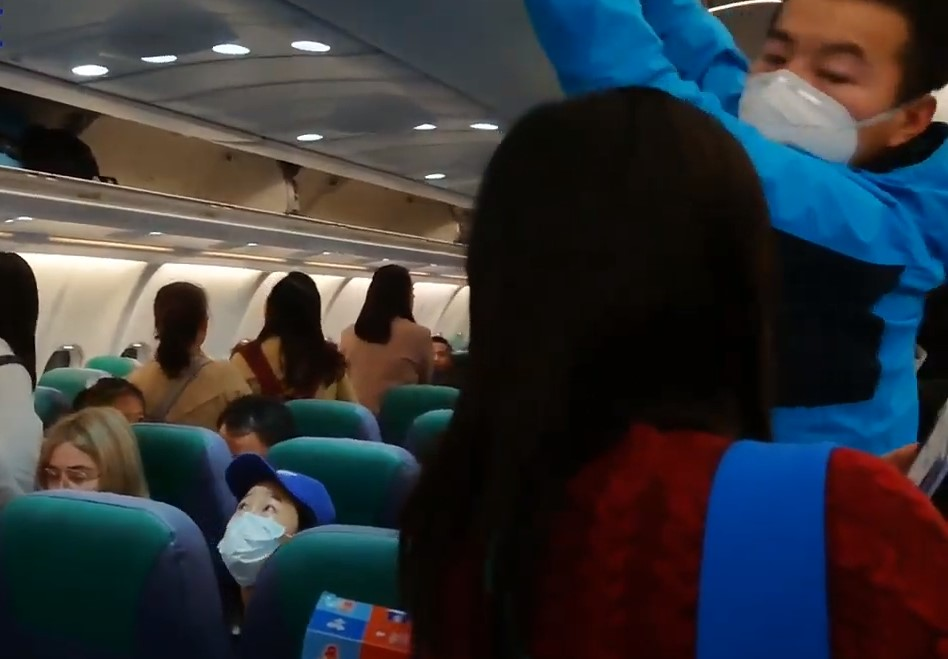face_no_mask: (39, 407, 147, 491)
face_with_mask: (738, 2, 942, 171), (213, 464, 326, 585)
